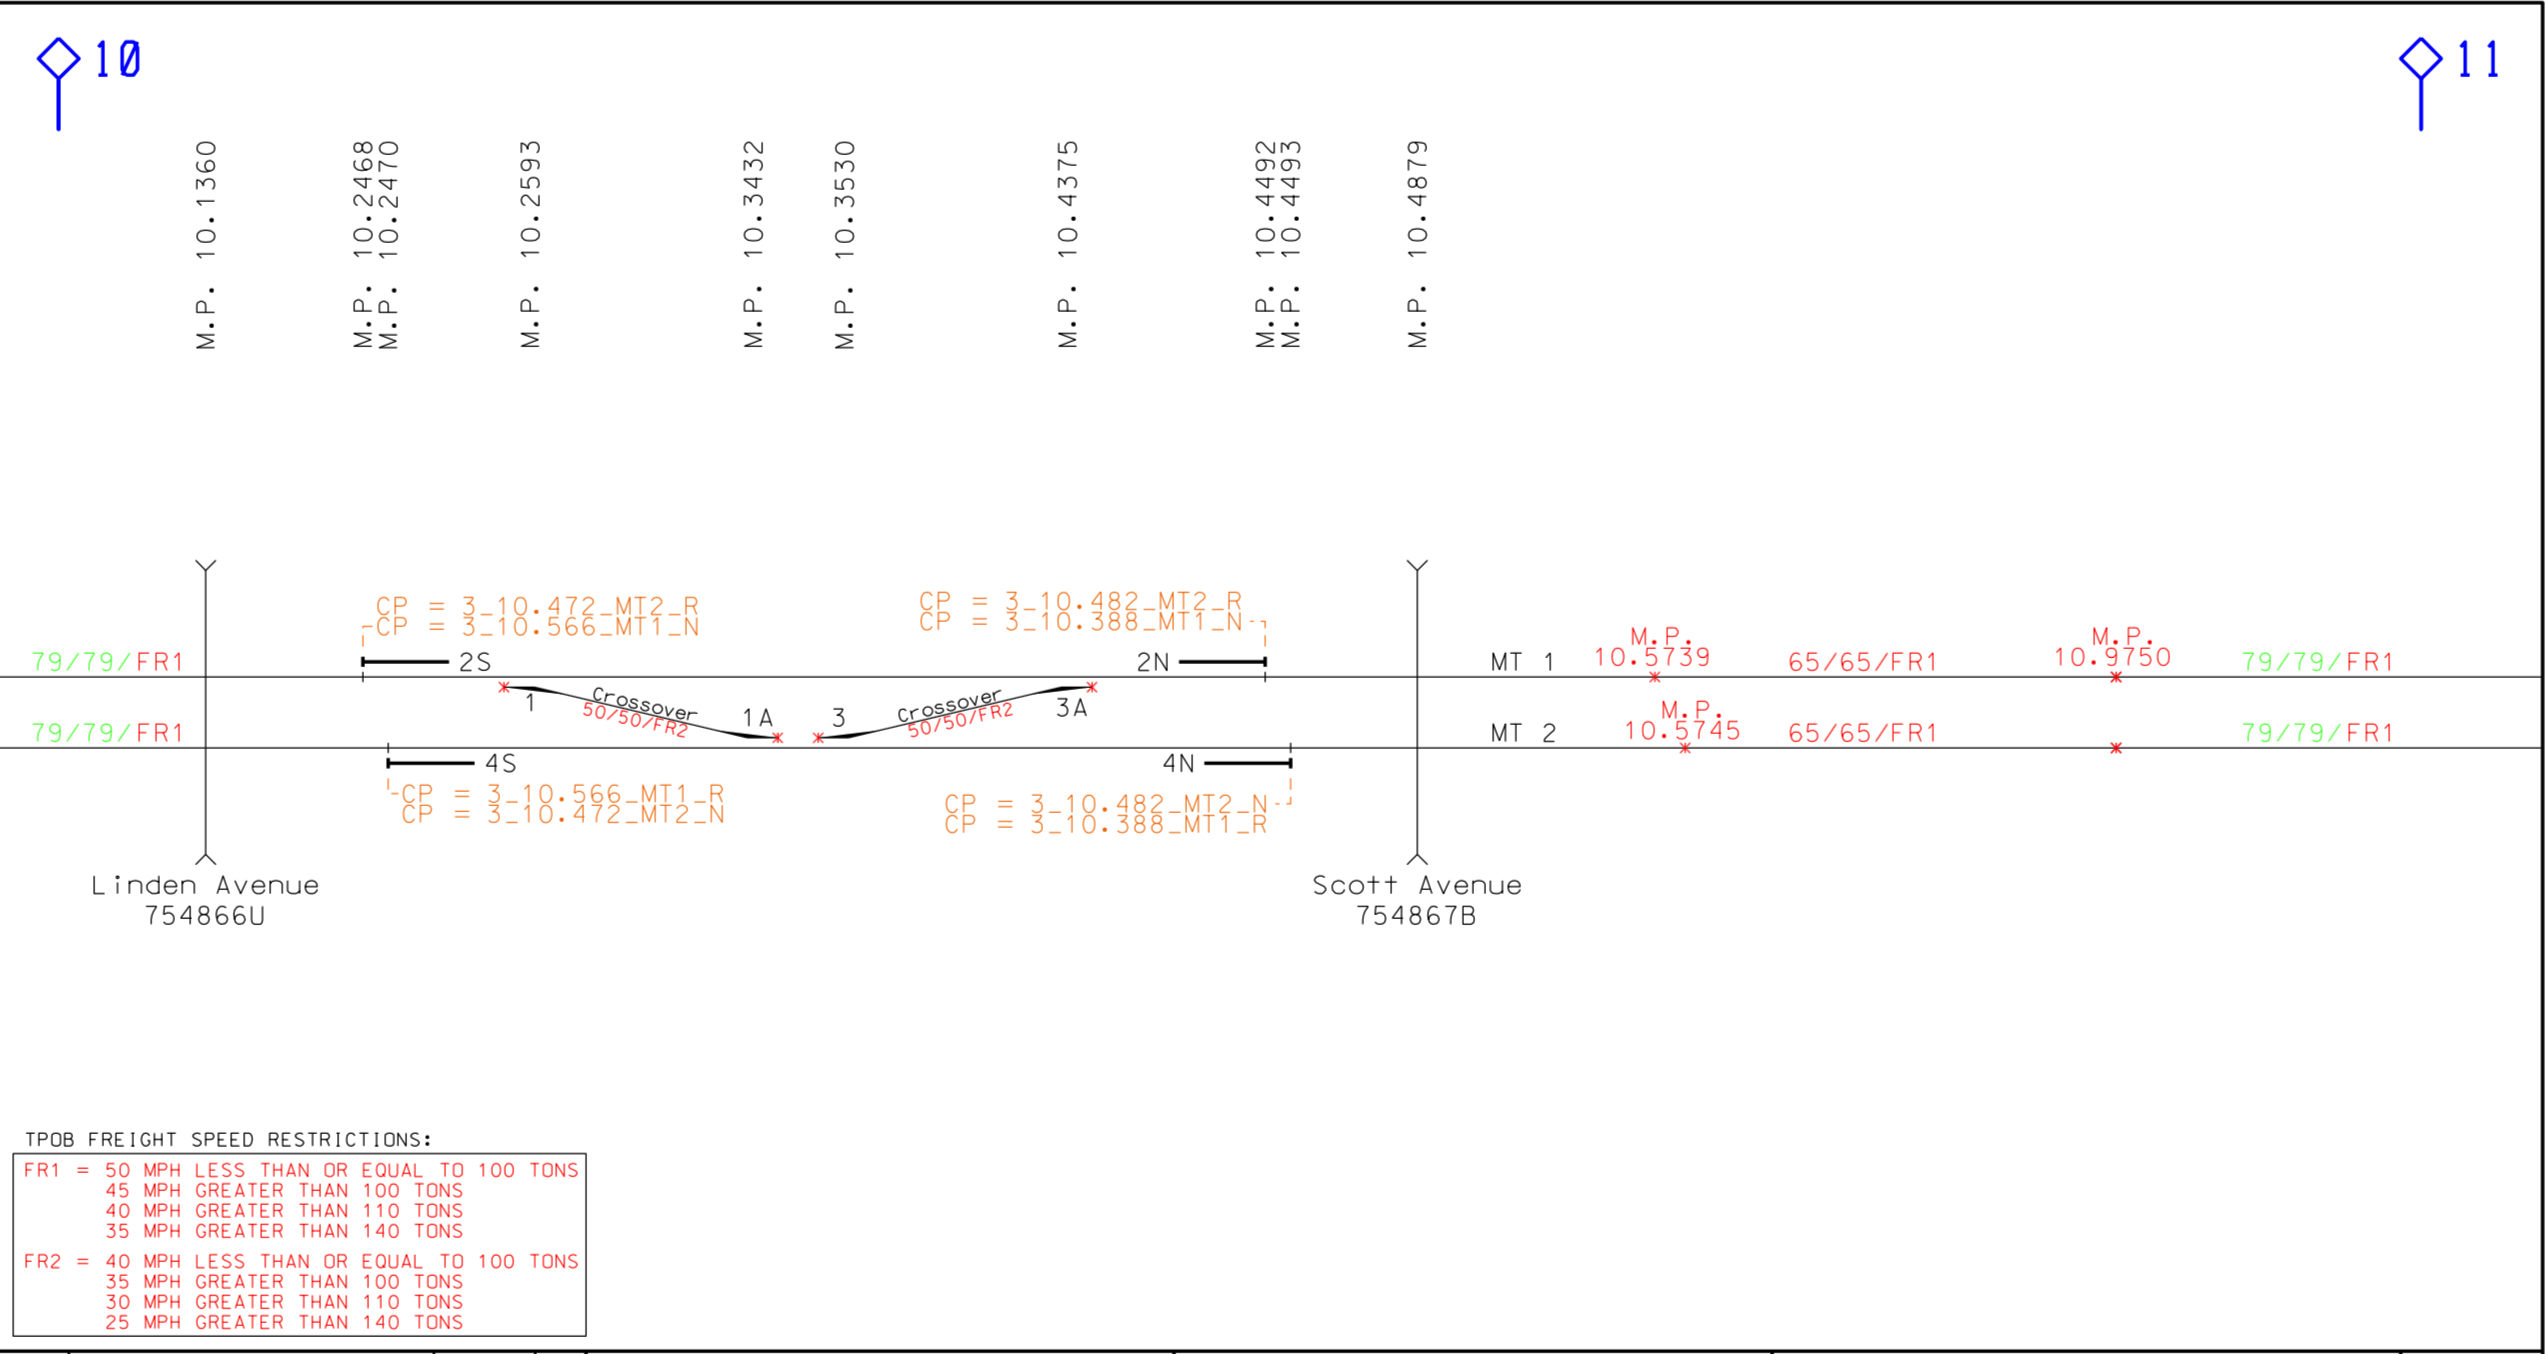crossover: (514, 675, 793, 743), (810, 684, 1093, 748)
marker: (167, 451, 269, 893), (1376, 529, 1485, 881)
track: (2, 653, 2536, 701), (2, 731, 2546, 775)
trainLeft: (350, 628, 509, 685), (370, 736, 529, 780)
trainRight: (1137, 637, 1278, 684), (1158, 738, 1305, 783)
